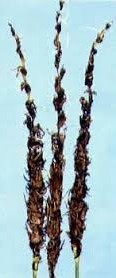Wheat Loose Smut: (16, 27, 99, 265)
